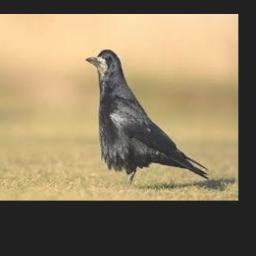Crow: (85, 49, 211, 188)
